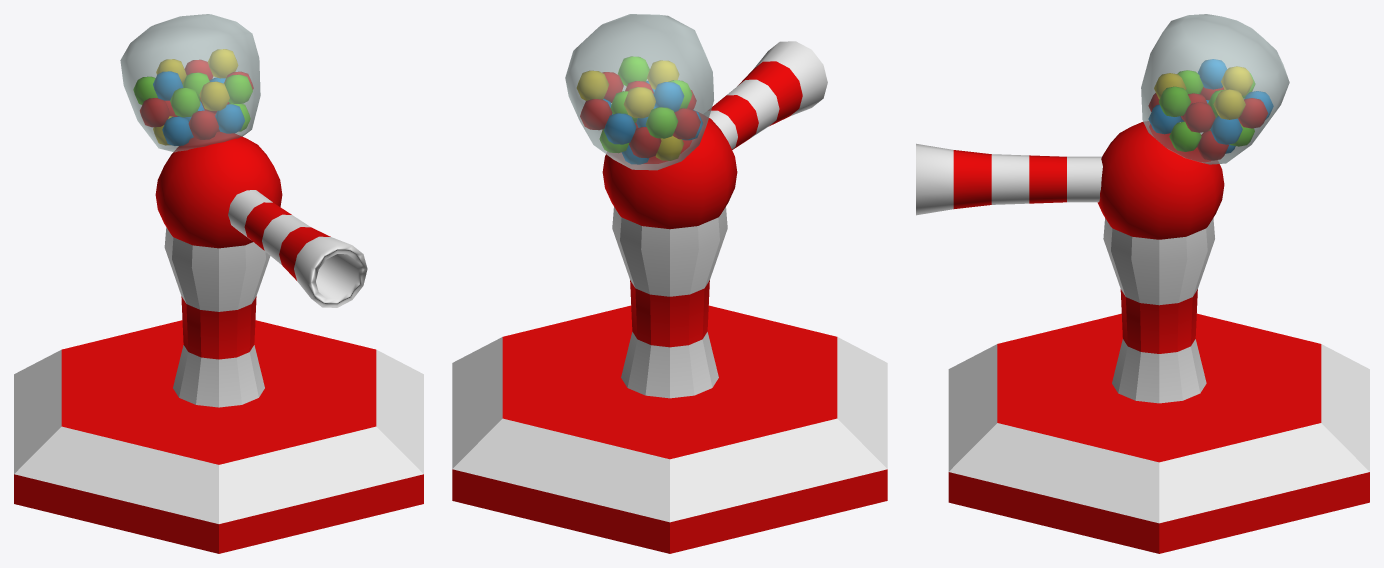
The model's file is turretGumBallv3.fbx.
3 renders of one model, left to right at view 1: azimuth 30°, elevation 25°; view 2: azimuth 150°, elevation 25°; view 3: azimuth 270°, elevation 25°, orthographic. The views are drawn at different scales.
Visible parts, largest first — view 1: turretGumBall1_stand, rotationObject; view 2: turretGumBall1_stand, rotationObject; view 3: turretGumBall1_stand, rotationObject.
Boxes of the visible parts, box(x1,y1,x2,y2) form: turretGumBall1_stand: box(14, 227, 423, 553); rotationObject: box(120, 14, 367, 307); turretGumBall1_stand: box(452, 207, 887, 553); rotationObject: box(565, 14, 827, 229); turretGumBall1_stand: box(948, 218, 1369, 553); rotationObject: box(916, 14, 1289, 239).
Bounding box in the file's own units: 2 × 1.94 × 1.87.
